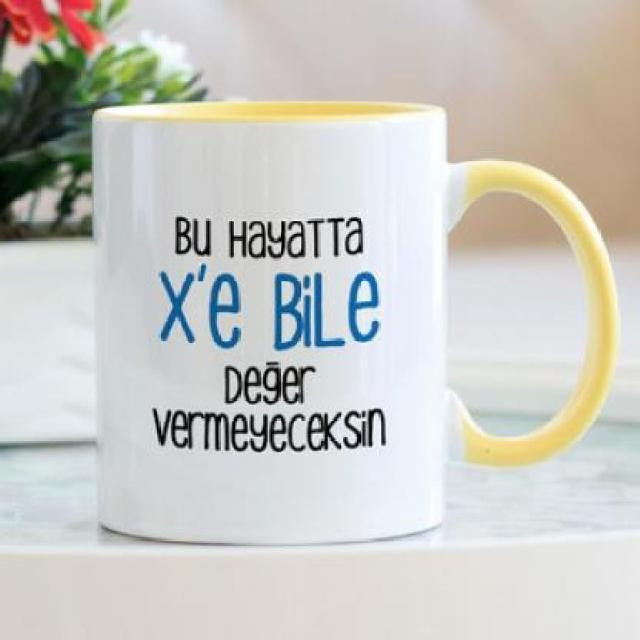taza: (68, 91, 625, 554)
